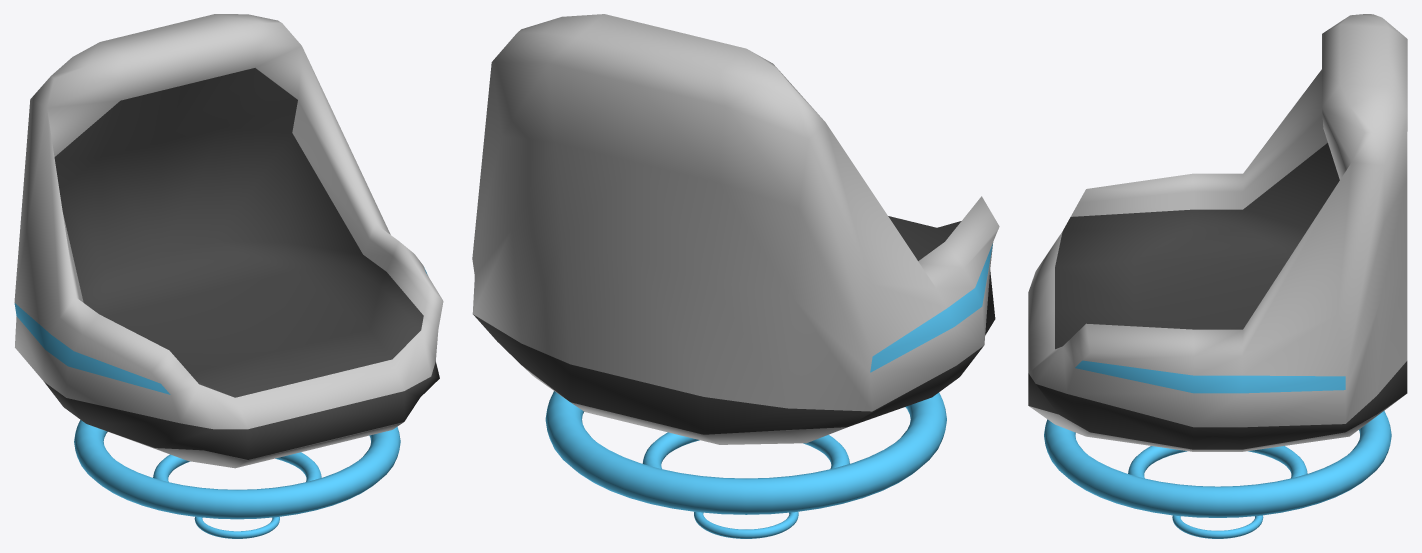
File: floatingSeat.fbx
3 views of the same model, side by side, from view 1: azimuth 30°, elevation 25°; view 2: azimuth 150°, elevation 25°; view 3: azimuth 270°, elevation 25° (orthographic). The views are drawn at different scales.
Parts seen in each view (by area): view 1: Cube; view 2: Cube; view 3: Cube.
Boxes of the visible parts, x1=… form: Cube: x1=14, y1=14, x2=443, y2=538; Cube: x1=472, y1=14, x2=999, y2=538; Cube: x1=1028, y1=14, x2=1407, y2=538.
Size of the model in its own units: 284 by 326 by 240.
1 material, 1 textured.
